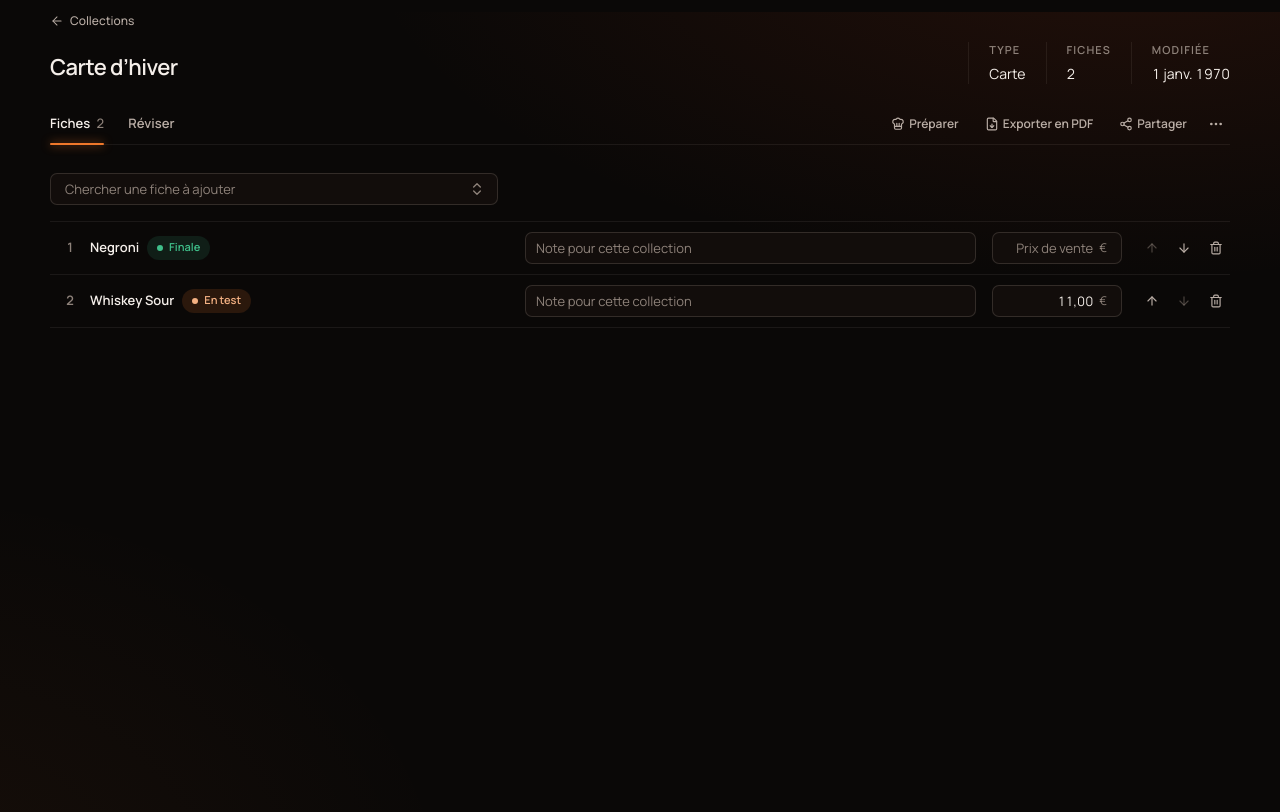
Test: CollectionsPage › shows the items in order, moves one down and exports the PDF
Expected: the heading "Carte d’hiver" is shown, 50,52 -> 178,82
Click the button named "Descendre « Negroni »" at (1184,248), box 1170,234 -> 1198,262
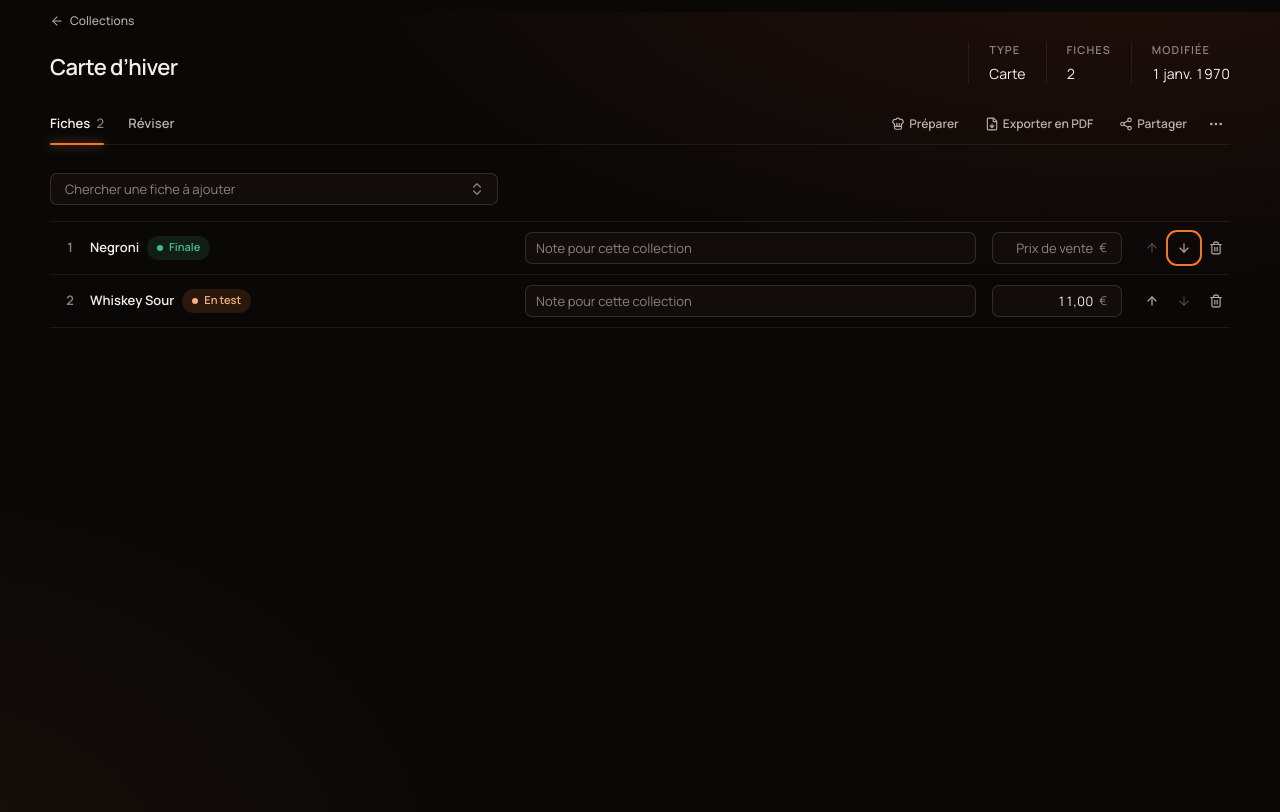
Expected: the button "Préparer" is enabled, 880,110 -> 970,138
Click the button "Exporter en PDF" at (1039,124), box 974,110 -> 1104,138
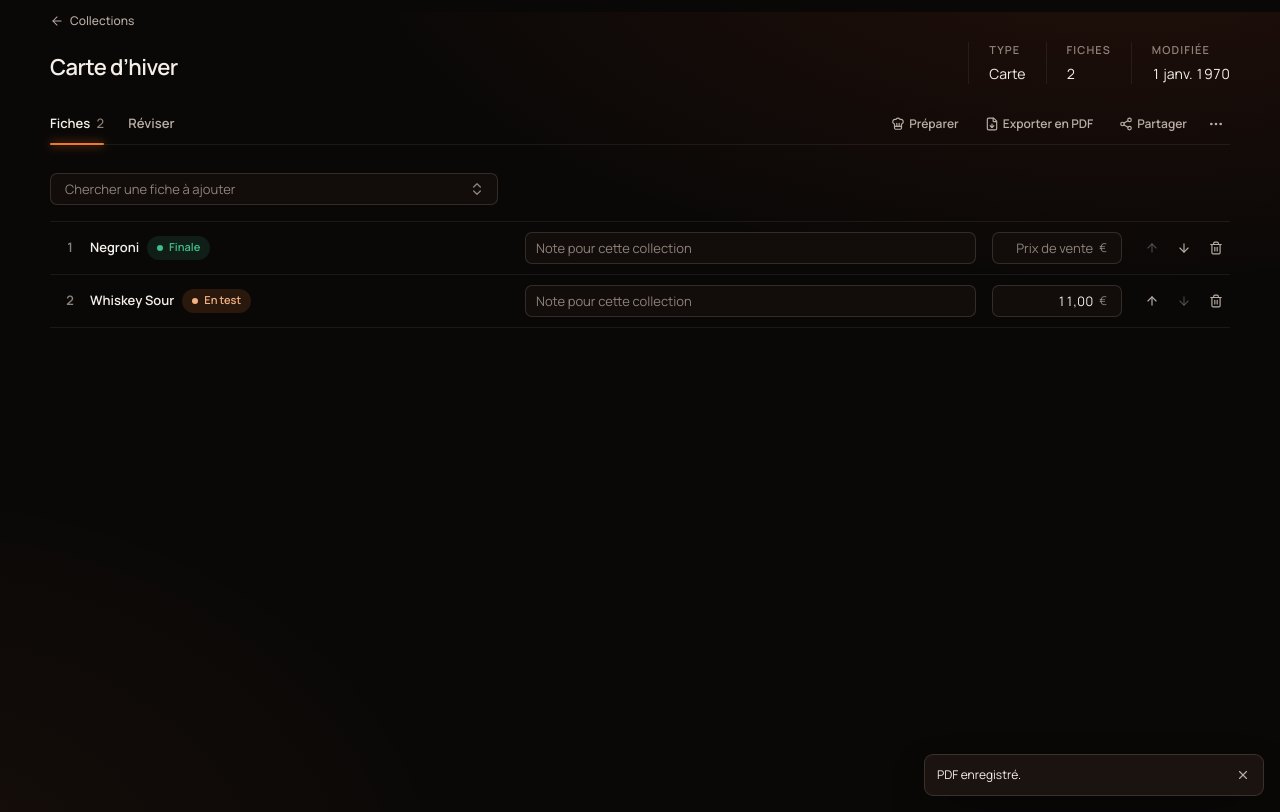
Expected: the text "PDF enregistré." is shown, 937,766 -> 1021,783
